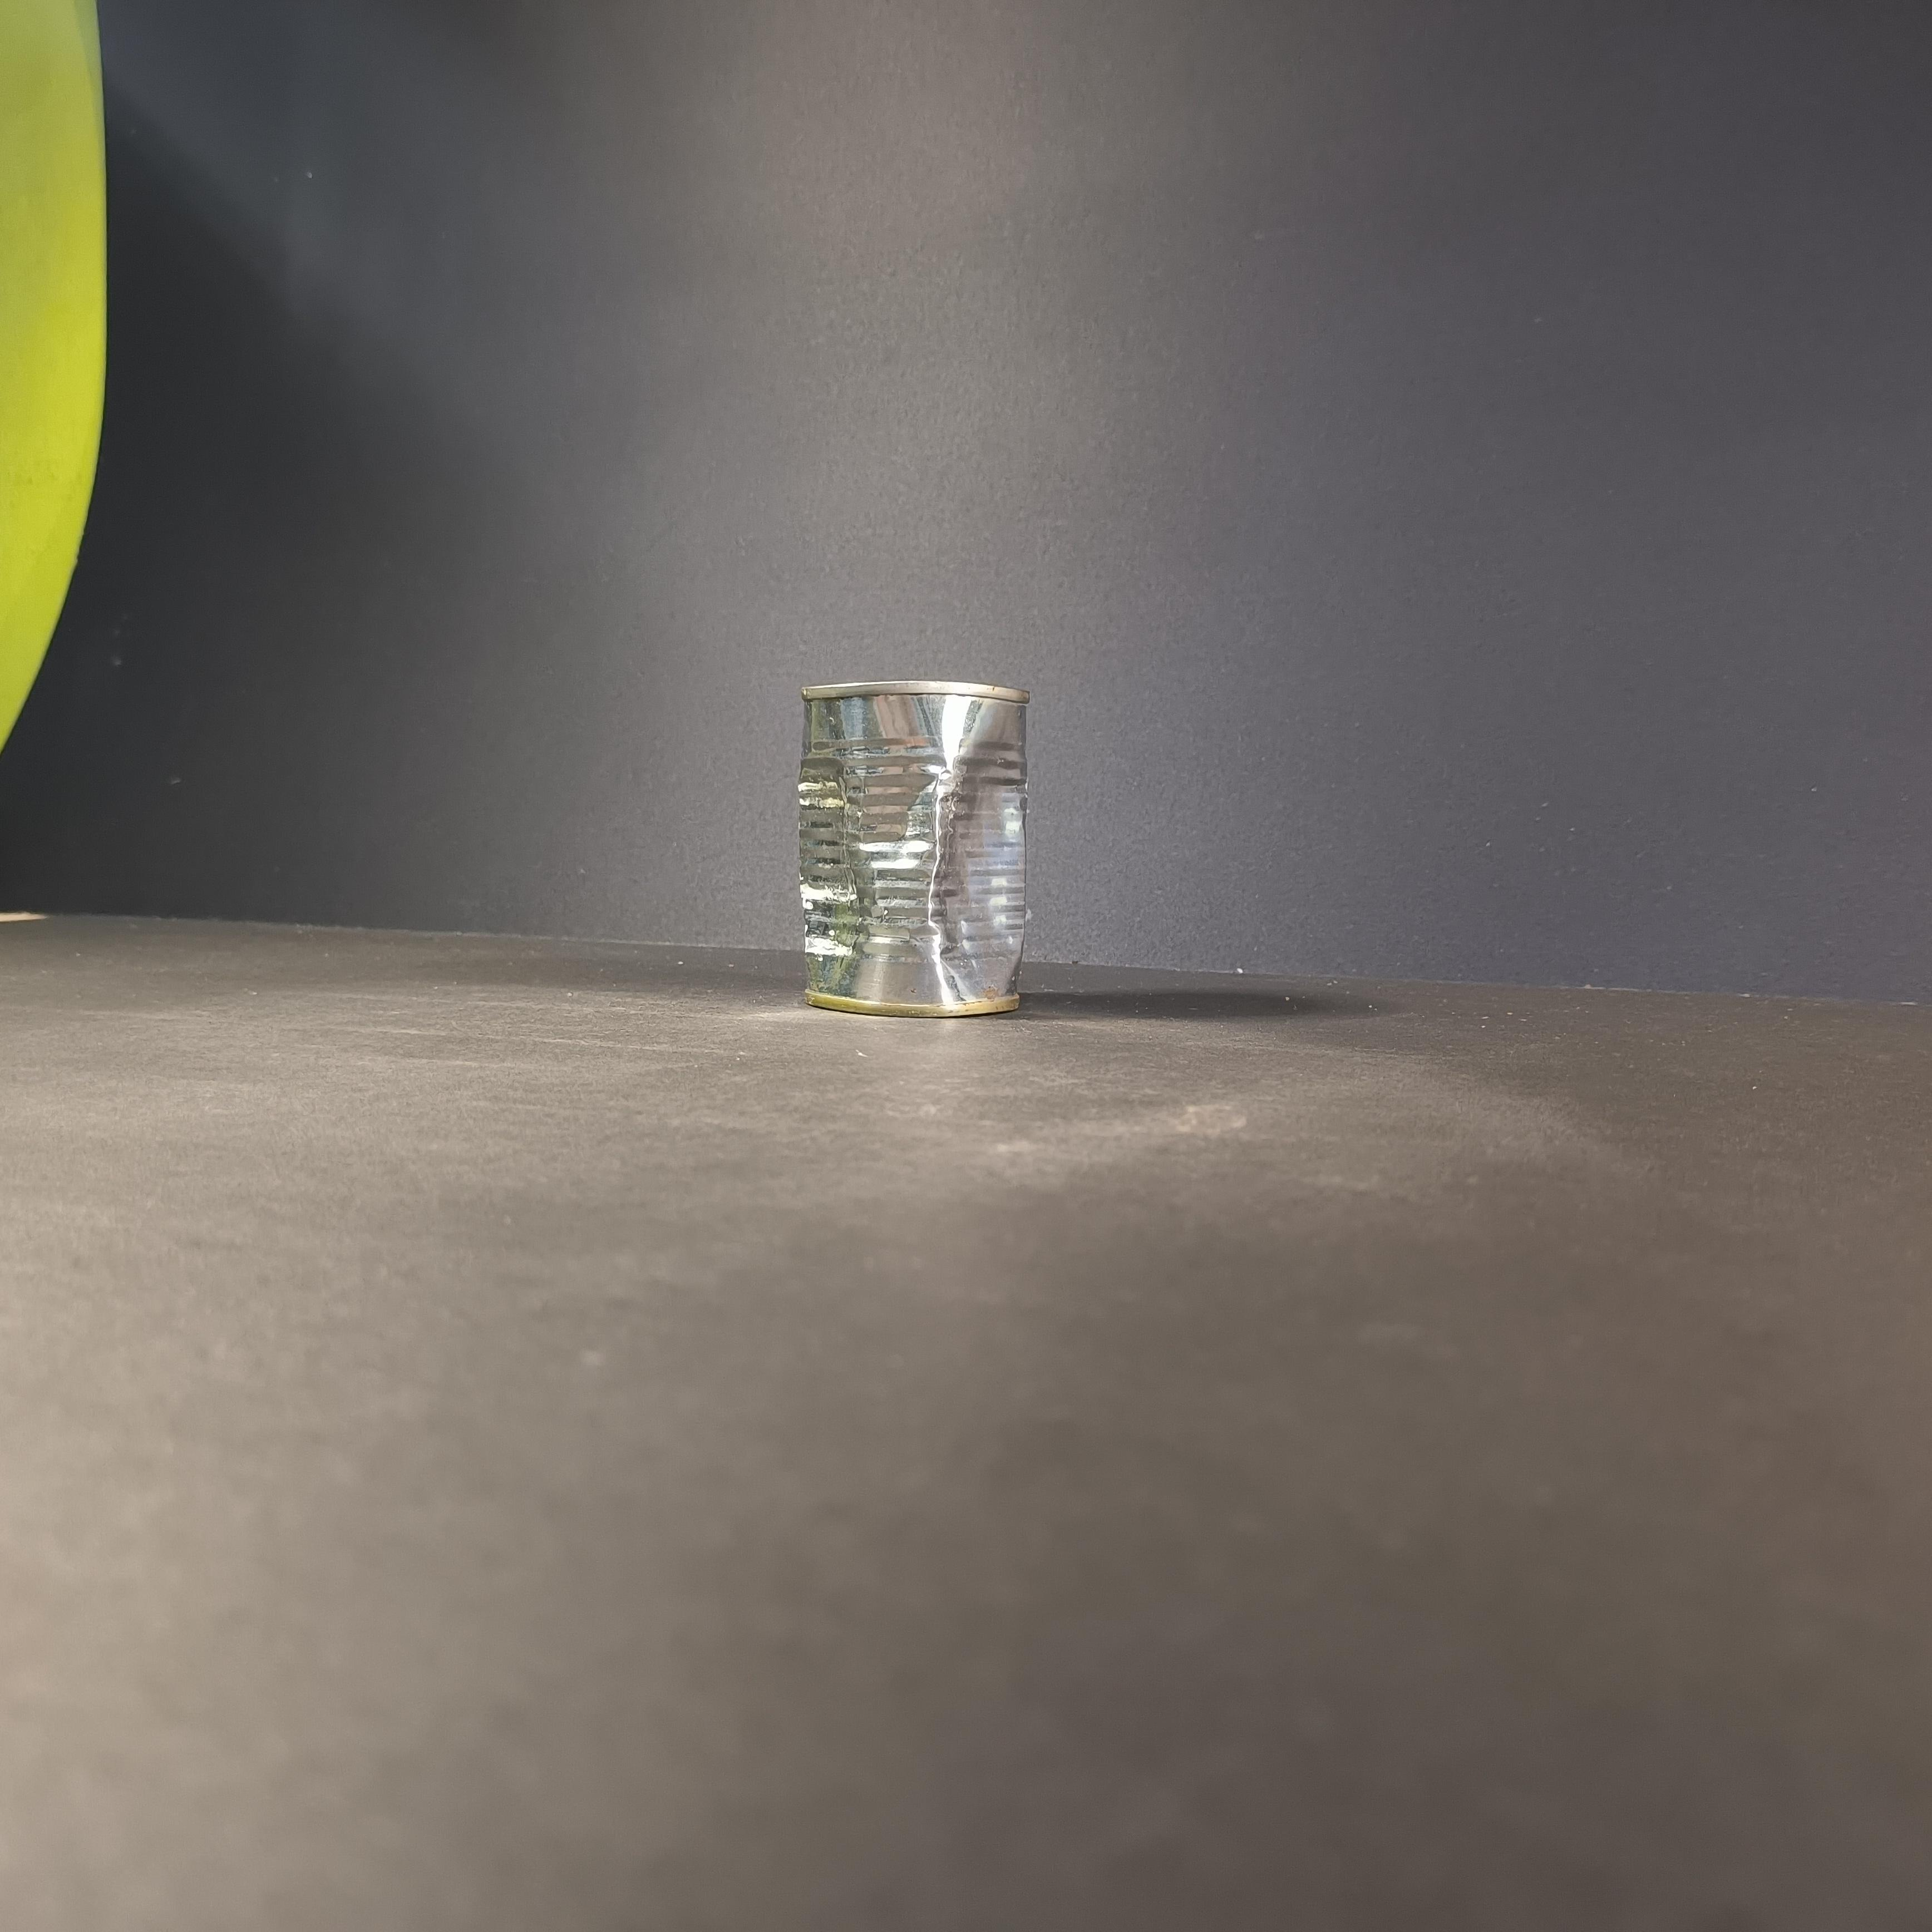Dented: (778, 656, 1049, 1021)
